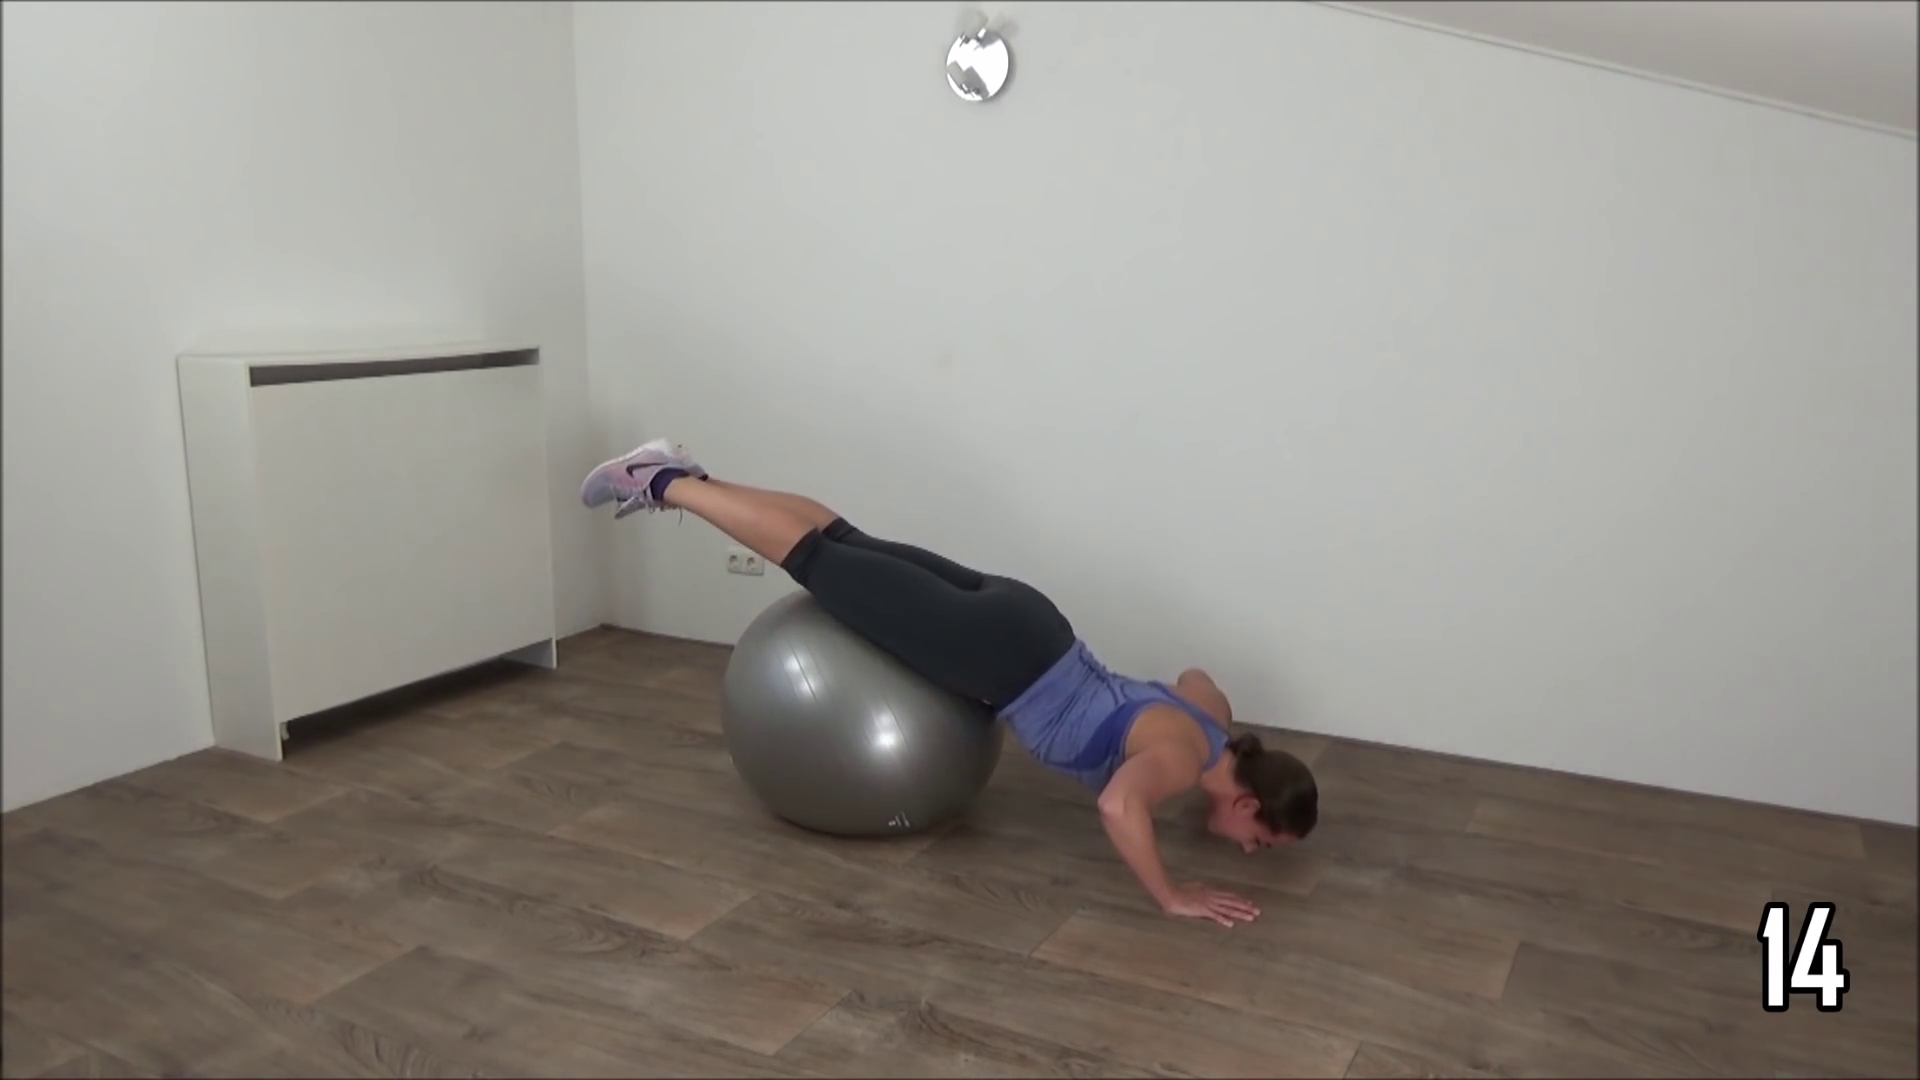yogaball: (713, 582, 1025, 849)
